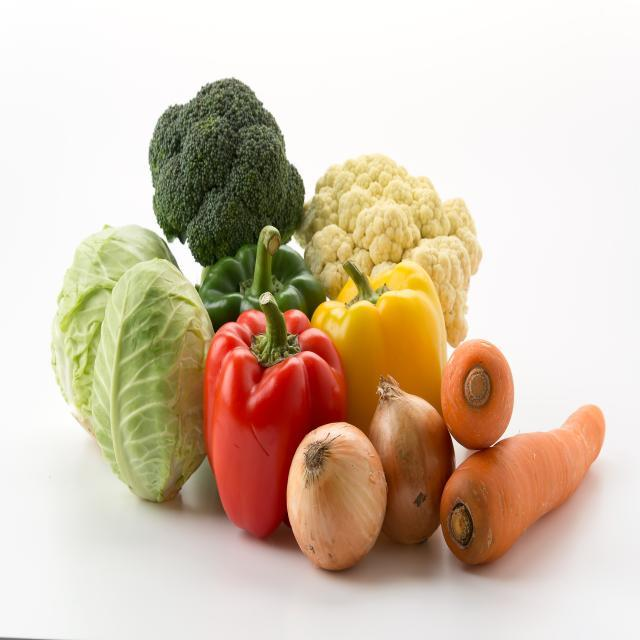bell_pepper: (210, 309, 344, 555), (317, 262, 458, 407)
cabbage: (54, 221, 214, 514)
carrot: (441, 397, 607, 570), (442, 334, 518, 446)
onion: (288, 419, 388, 573), (370, 381, 455, 551)
